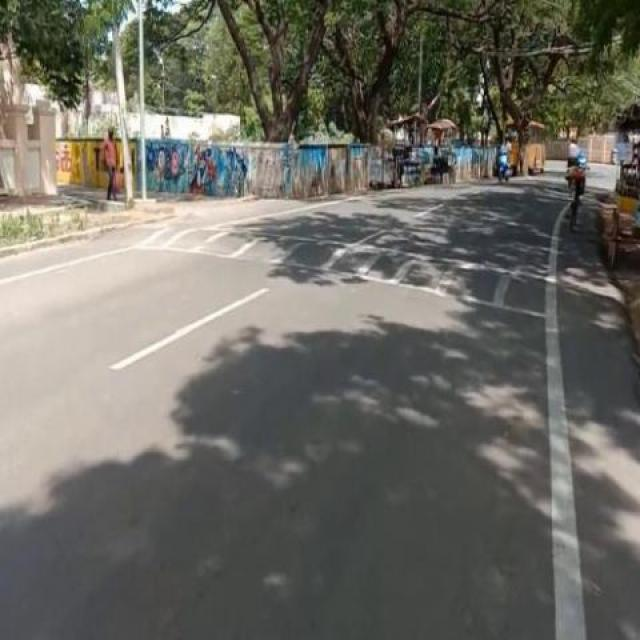Speed Bump: (100, 218, 631, 314)
